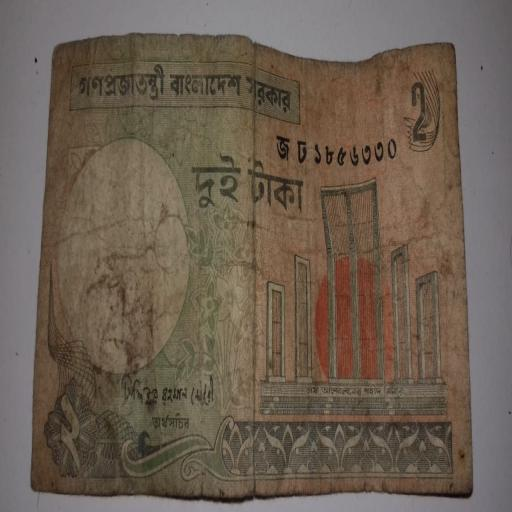2taka: (31, 34, 472, 497)
